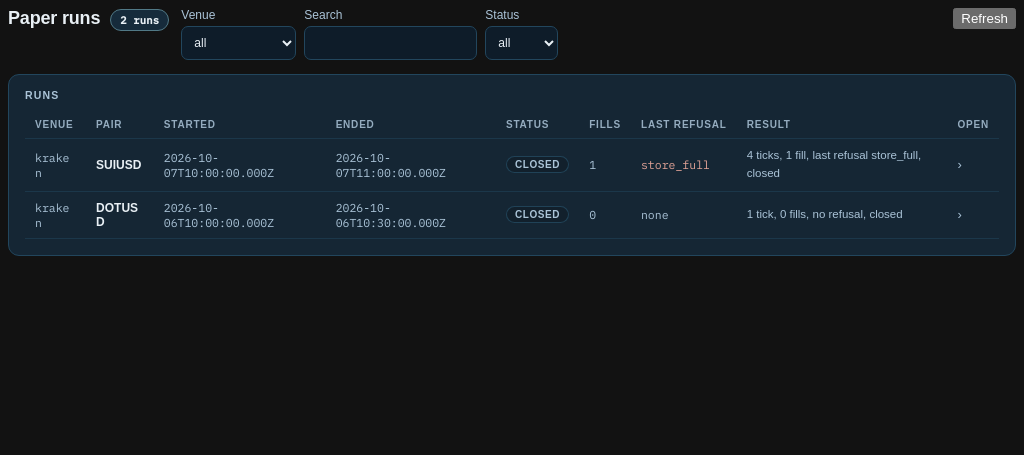
Test case: LastRunsPanel Signal layout — run detail panel › opens the detail panel for the selected run and renders the fills table inside it
Check: the table with test id "paper-last-runs-table" is shown, box [25, 111, 999, 239]
What coordinates should you click on to do the following:
click the row with test id "paper-last-runs-row-kraken-SUIUSD"
I would click on:
 (512, 165)
Its box is [25, 138, 999, 191].
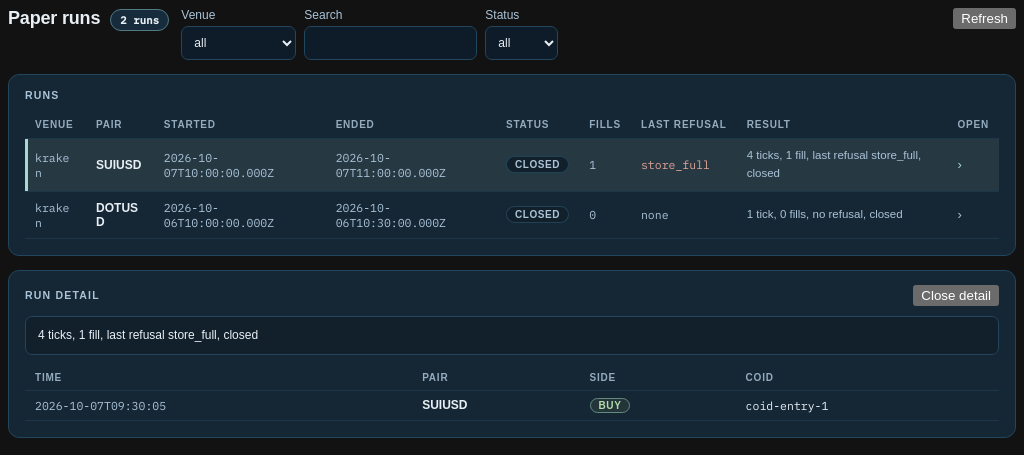
Check: the cell "2026-10-07T09:30:05" is shown, box [25, 390, 412, 420]
Check: the text with class "kbot-paper-runs__side" reads "buy", box [598, 400, 621, 411]
Check: the cell "coid-entry-1" is shown, box [736, 390, 999, 420]
